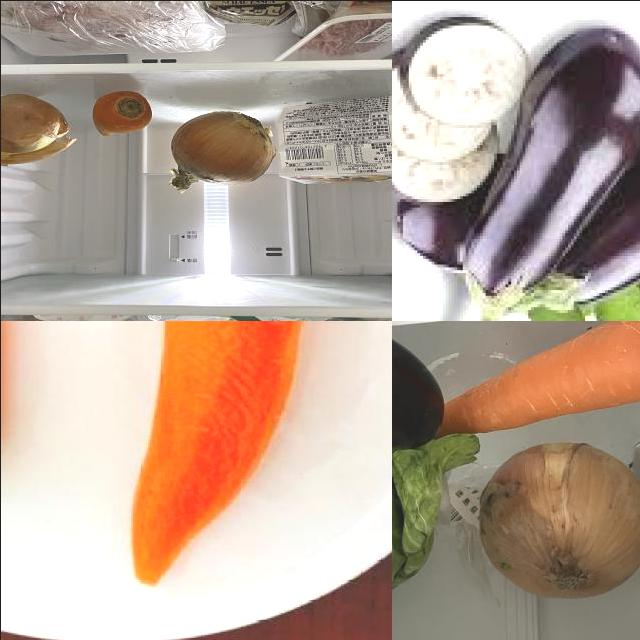cabbage: (392, 373, 482, 640)
carrot: (111, 321, 348, 592), (431, 321, 640, 439), (87, 85, 148, 144)
eggplant: (472, 32, 640, 319), (543, 97, 640, 316), (392, 321, 447, 452)
onion: (474, 439, 640, 603), (155, 98, 273, 192), (1, 93, 70, 167)
